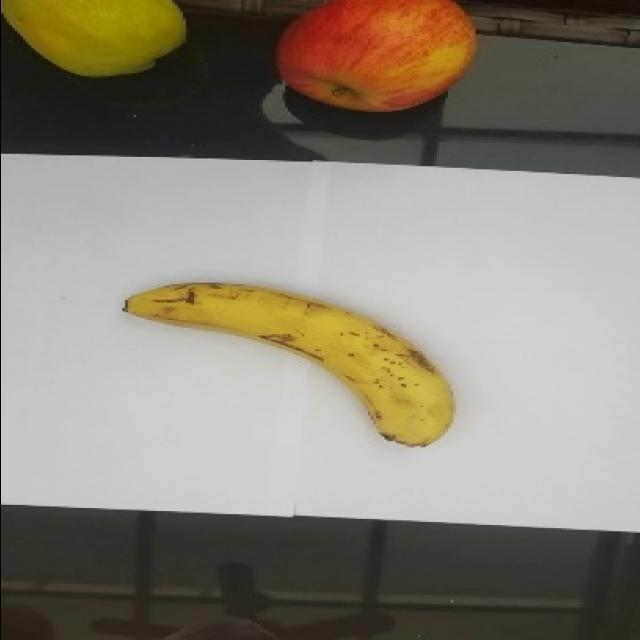Apple: (279, 0, 480, 118)
Banana: (122, 278, 456, 451)
